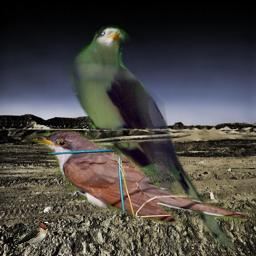Cuckoo: (68, 25, 244, 252), (29, 125, 253, 234)
Swallow: (13, 219, 50, 246)
